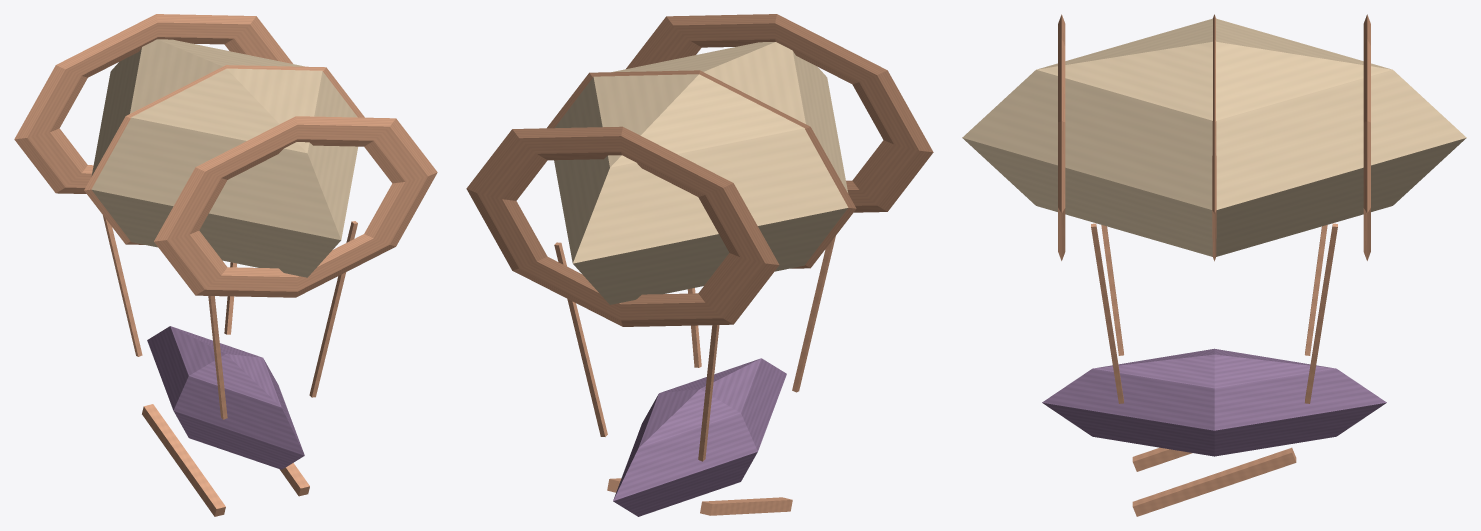
The model's file is atlas100-s081-a02.glb.
3 views of the same model, side by side, from view 1: azimuth 30°, elevation 25°; view 2: azimuth 150°, elevation 25°; view 3: azimuth 270°, elevation 25° (orthographic). The views are drawn at different scales.
Visible parts, largest first — view 1: atlas100-s081-a02:part-003, atlas100-s081-a02:part-010, atlas100-s081-a02:part-000, atlas100-s081-a02:part-008, atlas100-s081-a02:part-009, atlas100-s081-a02:part-001, atlas100-s081-a02:part-007, atlas100-s081-a02:part-004, atlas100-s081-a02:part-005, atlas100-s081-a02:part-002; view 2: atlas100-s081-a02:part-003, atlas100-s081-a02:part-008, atlas100-s081-a02:part-000, atlas100-s081-a02:part-010, atlas100-s081-a02:part-009, atlas100-s081-a02:part-001, atlas100-s081-a02:part-006, atlas100-s081-a02:part-005, atlas100-s081-a02:part-004; view 3: atlas100-s081-a02:part-003, atlas100-s081-a02:part-000, atlas100-s081-a02:part-002, atlas100-s081-a02:part-008, atlas100-s081-a02:part-010, atlas100-s081-a02:part-006, atlas100-s081-a02:part-007, atlas100-s081-a02:part-009, atlas100-s081-a02:part-004, atlas100-s081-a02:part-005, atlas100-s081-a02:part-001.
Part boxes in pixels (x1,y1,x2,y2): atlas100-s081-a02:part-003: [91, 39, 357, 277]; atlas100-s081-a02:part-010: [154, 116, 437, 297]; atlas100-s081-a02:part-000: [147, 326, 304, 469]; atlas100-s081-a02:part-008: [14, 14, 292, 193]; atlas100-s081-a02:part-009: [84, 65, 364, 244]; atlas100-s081-a02:part-001: [142, 404, 225, 516]; atlas100-s081-a02:part-007: [309, 221, 357, 397]; atlas100-s081-a02:part-004: [103, 215, 142, 356]; atlas100-s081-a02:part-005: [208, 296, 227, 419]; atlas100-s081-a02:part-002: [279, 463, 309, 496]; atlas100-s081-a02:part-003: [554, 42, 848, 304]; atlas100-s081-a02:part-008: [466, 126, 779, 326]; atlas100-s081-a02:part-000: [613, 358, 786, 516]; atlas100-s081-a02:part-010: [626, 14, 933, 212]; atlas100-s081-a02:part-009: [547, 70, 856, 268]; atlas100-s081-a02:part-001: [700, 497, 792, 515]; atlas100-s081-a02:part-006: [554, 242, 607, 436]; atlas100-s081-a02:part-005: [792, 236, 835, 392]; atlas100-s081-a02:part-004: [698, 325, 719, 461]; atlas100-s081-a02:part-003: [962, 18, 1466, 256]; atlas100-s081-a02:part-000: [1042, 348, 1386, 456]; atlas100-s081-a02:part-002: [1132, 447, 1296, 516]; atlas100-s081-a02:part-008: [1363, 14, 1370, 260]; atlas100-s081-a02:part-010: [1058, 14, 1065, 260]; atlas100-s081-a02:part-006: [1305, 223, 1337, 403]; atlas100-s081-a02:part-007: [1091, 223, 1123, 403]; atlas100-s081-a02:part-009: [1212, 14, 1216, 261]; atlas100-s081-a02:part-004: [1305, 225, 1327, 355]; atlas100-s081-a02:part-005: [1101, 225, 1123, 355]; atlas100-s081-a02:part-001: [1132, 447, 1192, 471].
Bounding box in the file's own units: 2.7 × 3.77 × 3.8.
Materials: 3 (3 with a texture image).
